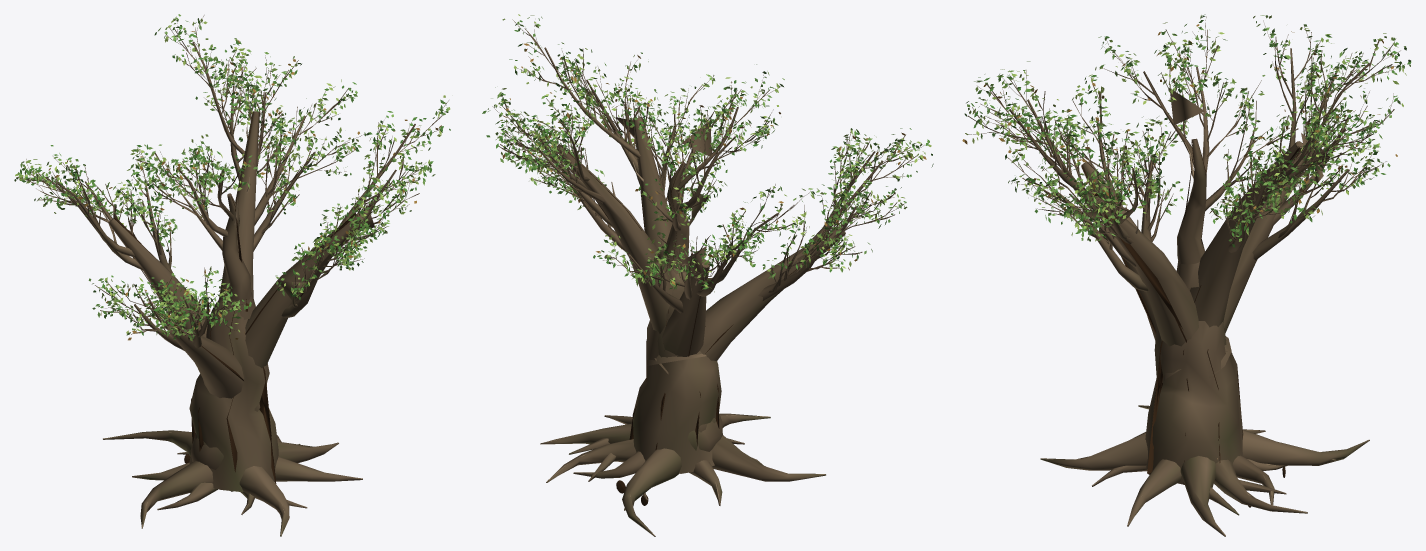
Rendered from ancient_tree_lod2.glb.
3 views of the same model, side by side, from view 1: azimuth 30°, elevation 25°; view 2: azimuth 150°, elevation 25°; view 3: azimuth 270°, elevation 25° (orthographic). The views are drawn at different scales.
Parts seen in each view (by area): view 1: AncientTreeWood_LOD2, AncientLeaves_LOD2, FineBranches_LOD2, DirectedBarkGrooves_LOD2; view 2: AncientTreeWood_LOD2, AncientLeaves_LOD2, FineBranches_LOD2, DirectedBarkGrooves_LOD2; view 3: AncientTreeWood_LOD2, AncientLeaves_LOD2, FineBranches_LOD2, DirectedBarkGrooves_LOD2.
Boxes of the visible parts, x1,y1,x2,y2 form: AncientTreeWood_LOD2: (22,26,442,536); AncientLeaves_LOD2: (14,14,450,341); FineBranches_LOD2: (16,15,448,334); DirectedBarkGrooves_LOD2: (114,111,355,483); AncientTreeWood_LOD2: (500,28,916,536); AncientLeaves_LOD2: (482,14,933,292); FineBranches_LOD2: (492,19,924,288); DirectedBarkGrooves_LOD2: (561,117,814,449); AncientTreeWood_LOD2: (968,29,1394,536); AncientLeaves_LOD2: (962,14,1411,247); FineBranches_LOD2: (969,16,1404,248); DirectedBarkGrooves_LOD2: (1081,140,1300,484).
Size of the model in its own units: 20.86 by 22.63 by 19.55.
